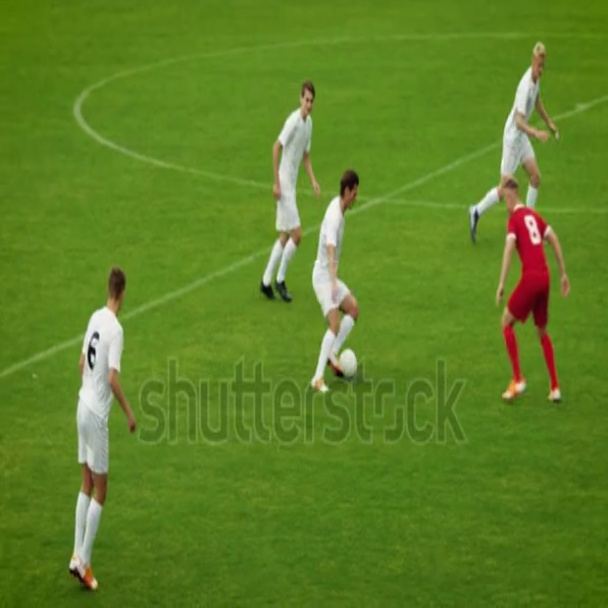ball: (342, 346, 357, 380)
